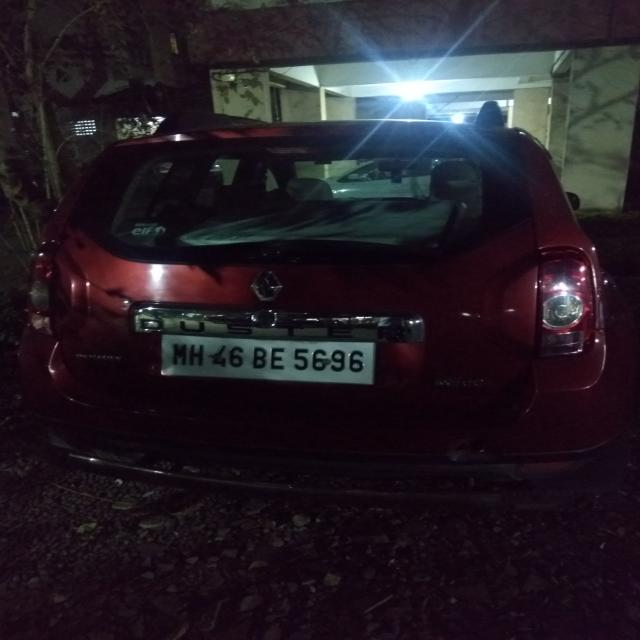Number-Plate: (156, 336, 368, 383)
